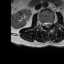CCS_normal: (46, 20, 48, 29)
LFS_normal: (50, 20, 53, 27)
LLS_normal: (48, 20, 50, 28)
RFS_normal: (41, 20, 43, 27)
RLS_normal: (43, 20, 46, 28)
